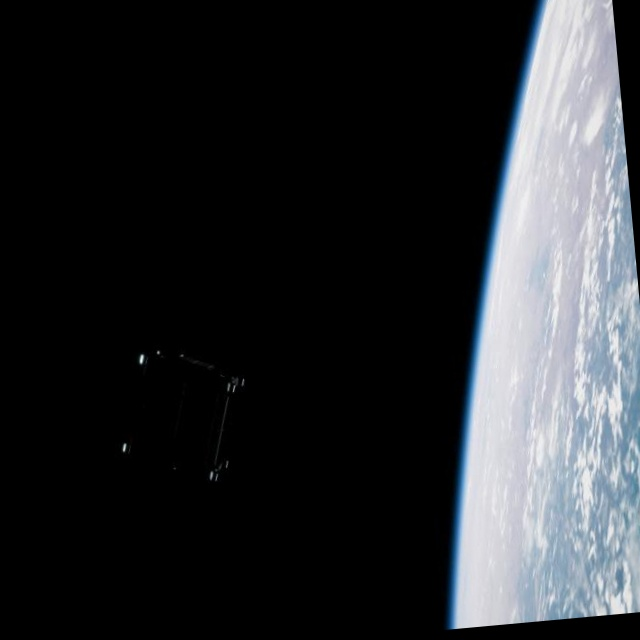medium_debris: (95, 322, 262, 510)
